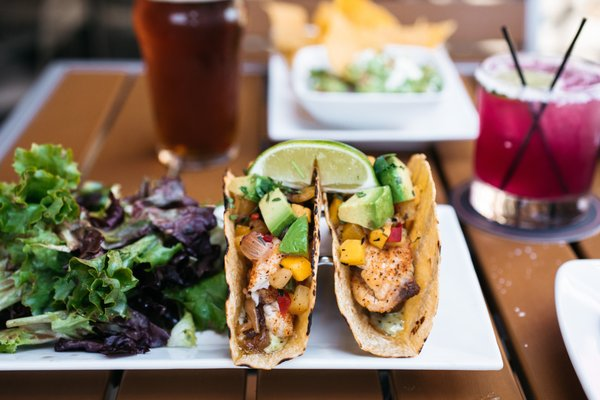pizza: (469, 42, 600, 240), (129, 0, 245, 179)
salad: (500, 24, 527, 87)
soup: (222, 140, 391, 368), (326, 150, 442, 359)
sushi: (261, 1, 478, 141), (279, 33, 477, 139)
